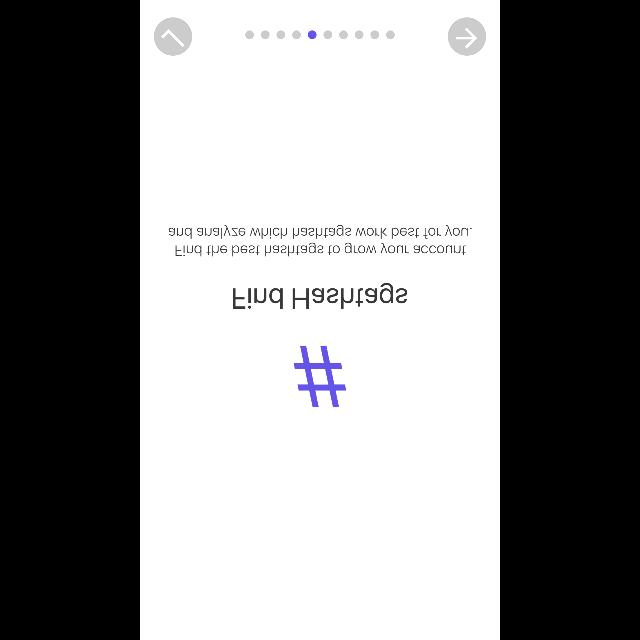icon: (448, 18, 486, 56), (154, 18, 192, 56)
image: (294, 347, 346, 408)
pageindicator: (246, 31, 394, 39)
text: (168, 226, 472, 256), (233, 284, 407, 308)
